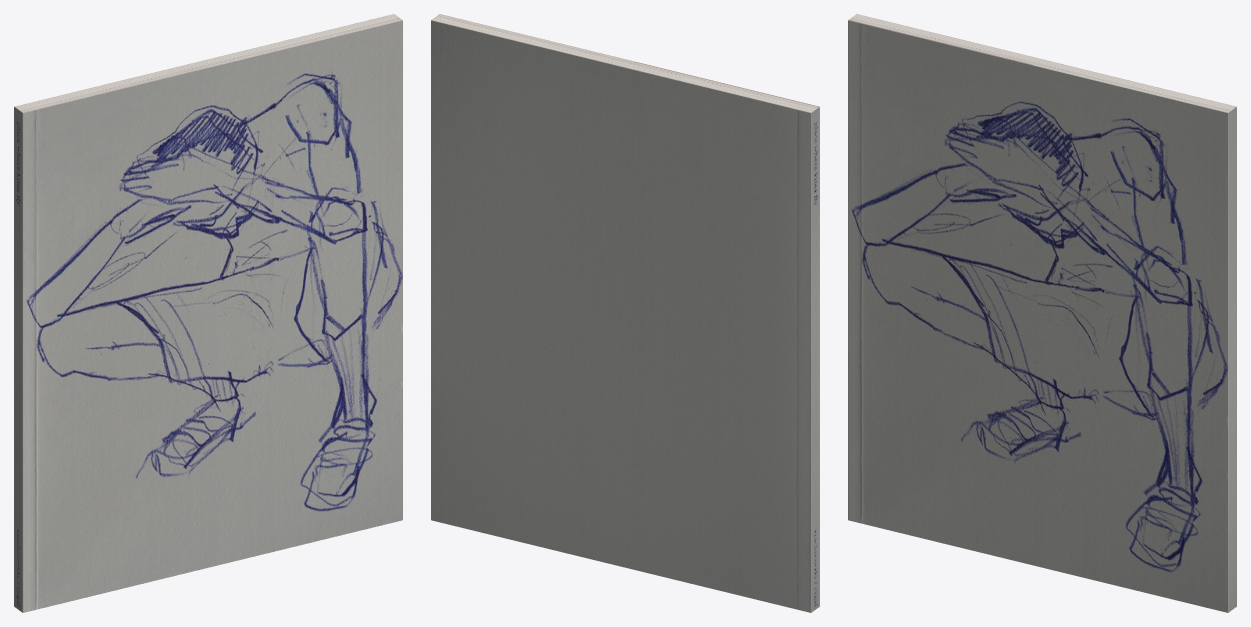
The model's file is moodle10.glb.
3 renders of one model, left to right at view 1: azimuth 30°, elevation 25°; view 2: azimuth 150°, elevation 25°; view 3: azimuth 330°, elevation 25°, orthographic.
Visible parts, largest first — view 1: Object_3_/OKLADKA-SZWAJCARSKA_0, Object_1_/STRONY_0; view 2: Object_3_/OKLADKA-SZWAJCARSKA_0, Object_1_/STRONY_0; view 3: Object_3_/OKLADKA-SZWAJCARSKA_0, Object_1_/STRONY_0.
Boxes of the visible parts, bbox=[...] form: Object_3_/OKLADKA-SZWAJCARSKA_0: bbox=[14, 14, 402, 612]; Object_1_/STRONY_0: bbox=[15, 14, 401, 112]; Object_3_/OKLADKA-SZWAJCARSKA_0: bbox=[431, 14, 819, 612]; Object_1_/STRONY_0: bbox=[432, 14, 818, 112]; Object_3_/OKLADKA-SZWAJCARSKA_0: bbox=[848, 14, 1236, 612]; Object_1_/STRONY_0: bbox=[849, 14, 1235, 112].
Bounding box in the file's own units: 0.1751 × 0.22 × 0.007.
2 materials, 2 textured.
